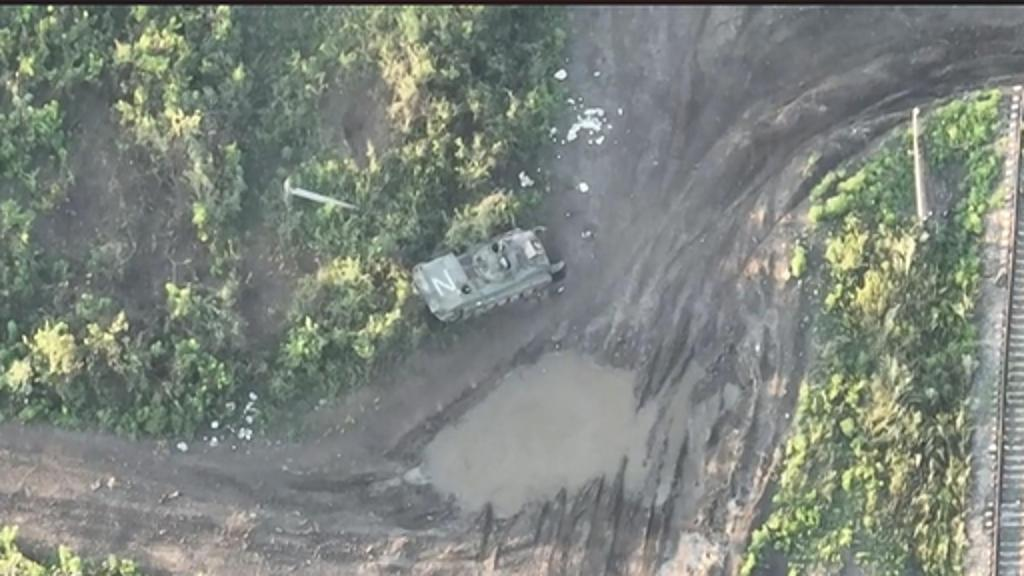APC-IFV: (400, 222, 570, 326)
